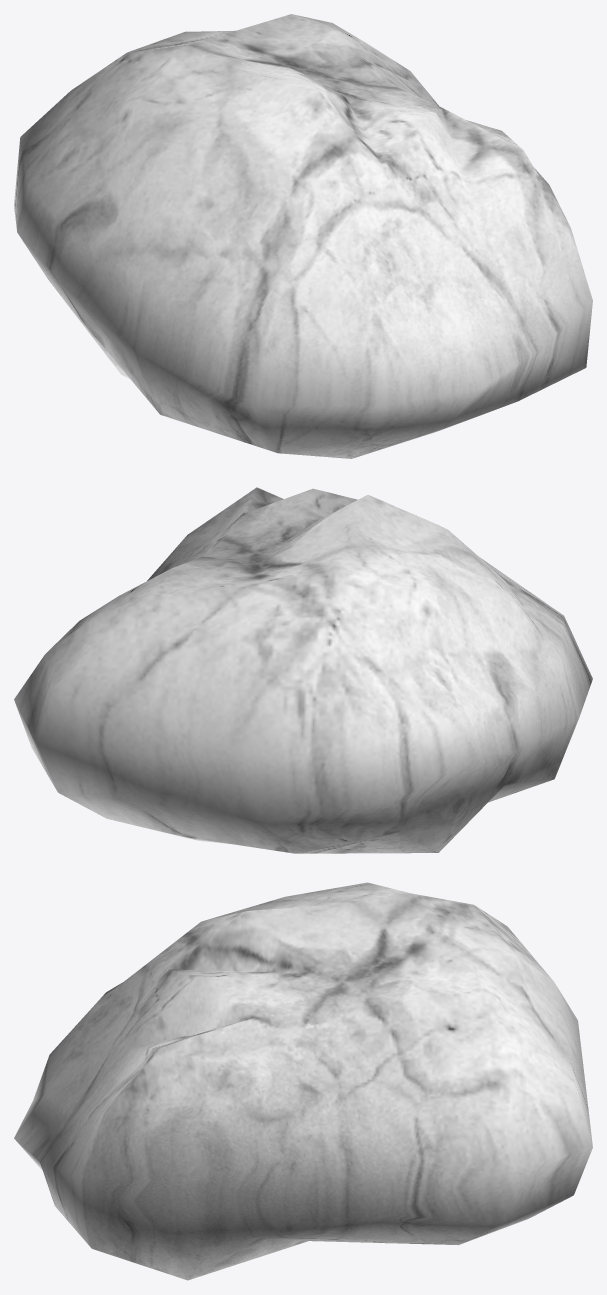
File: Rock-9.fbx
3 renders of one model, top to bottom at view 1: azimuth 30°, elevation 25°; view 2: azimuth 150°, elevation 25°; view 3: azimuth 270°, elevation 25°, orthographic. The views are drawn at different scales.
Parts seen in each view (by area): view 1: Cube.007; view 2: Cube.007; view 3: Cube.007.
Part boxes in pixels (bbox=[...]): Cube.007: bbox=[14, 14, 592, 458]; Cube.007: bbox=[14, 487, 592, 853]; Cube.007: bbox=[14, 882, 592, 1280].
Bounding box in the file's own units: 114 × 80.61 × 135.
